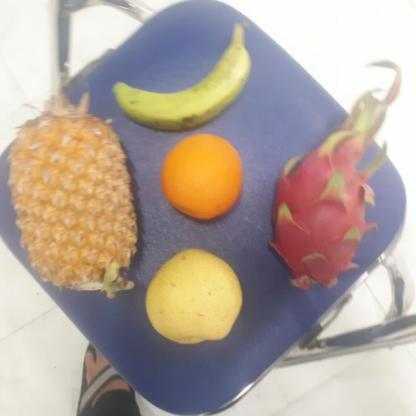banana: (110, 28, 250, 132)
orange: (158, 132, 247, 221)
pear: (142, 244, 242, 344)
pineapple: (6, 118, 136, 289)
pitaya: (268, 121, 388, 287)
